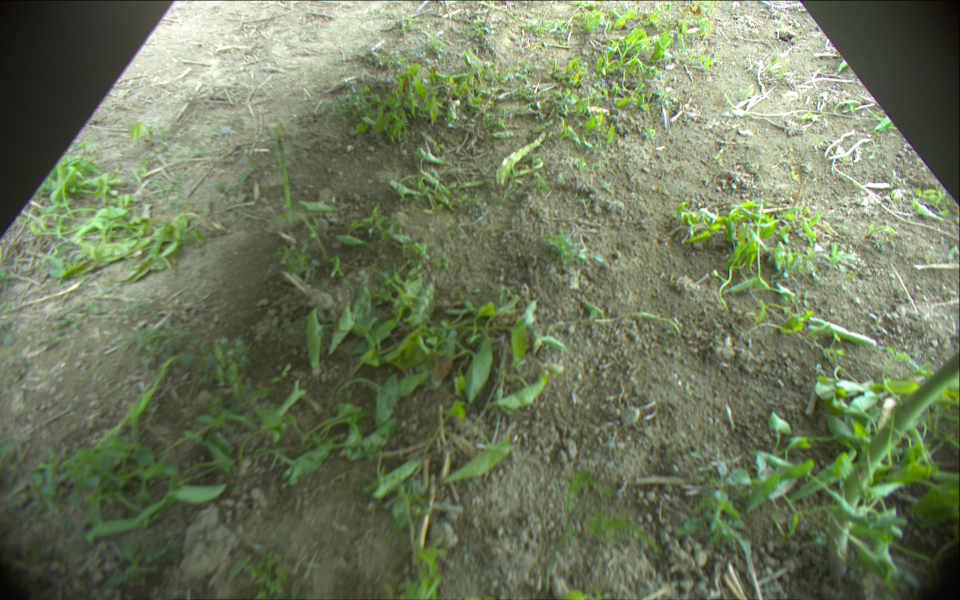aspa: (825, 345, 960, 578), (275, 137, 294, 235)
